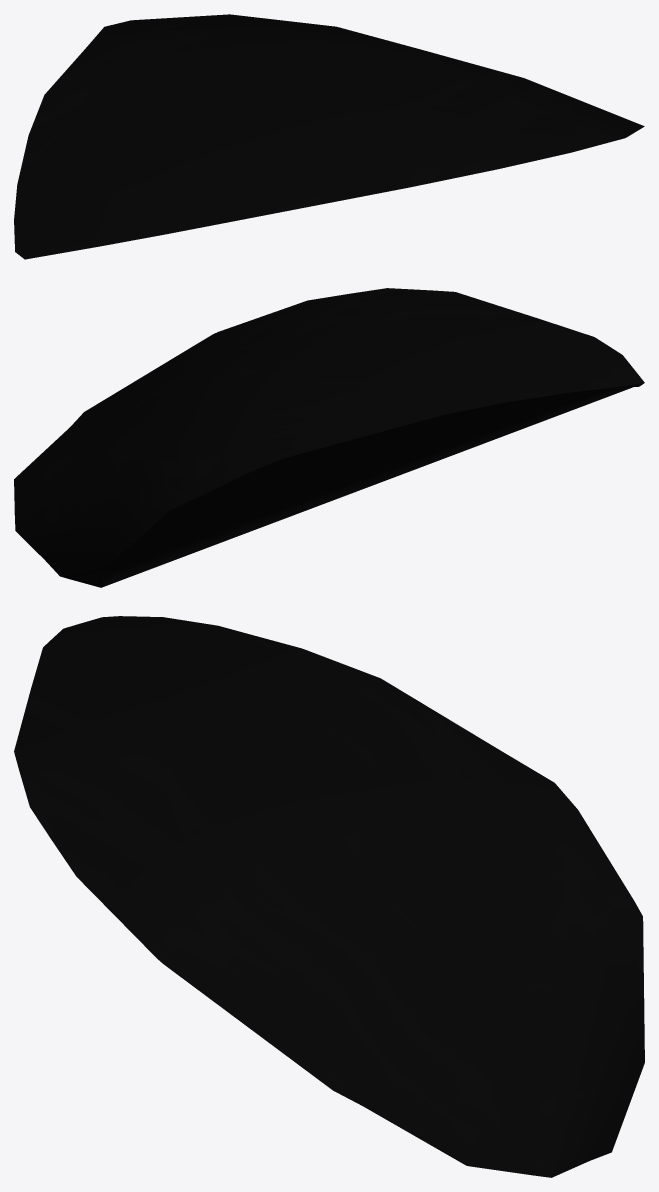
3 renders of one model, top to bottom at view 1: azimuth 30°, elevation 25°; view 2: azimuth 150°, elevation 25°; view 3: azimuth 270°, elevation 25°, orthographic. The views are drawn at different scales.
Parts seen in each view (by area): view 1: Cylinder_cell.010; view 2: Cylinder_cell.010; view 3: Cylinder_cell.010.
Boxes of the visible parts, bbox=[...] form: Cylinder_cell.010: bbox=[14, 14, 644, 259]; Cylinder_cell.010: bbox=[14, 288, 644, 587]; Cylinder_cell.010: bbox=[14, 616, 644, 1177].
Bounding box in the file's own units: 0.2764 × 0.0976 × 0.2041.
1 material, 1 textured.
